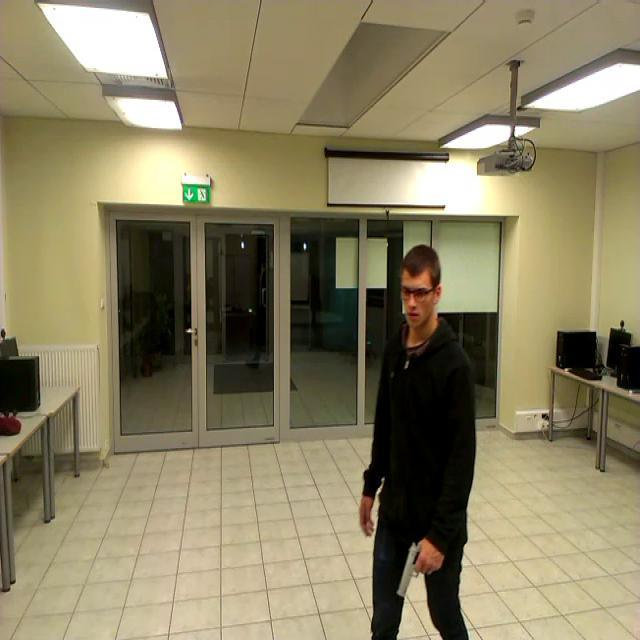Gun: (397, 540, 429, 597)
